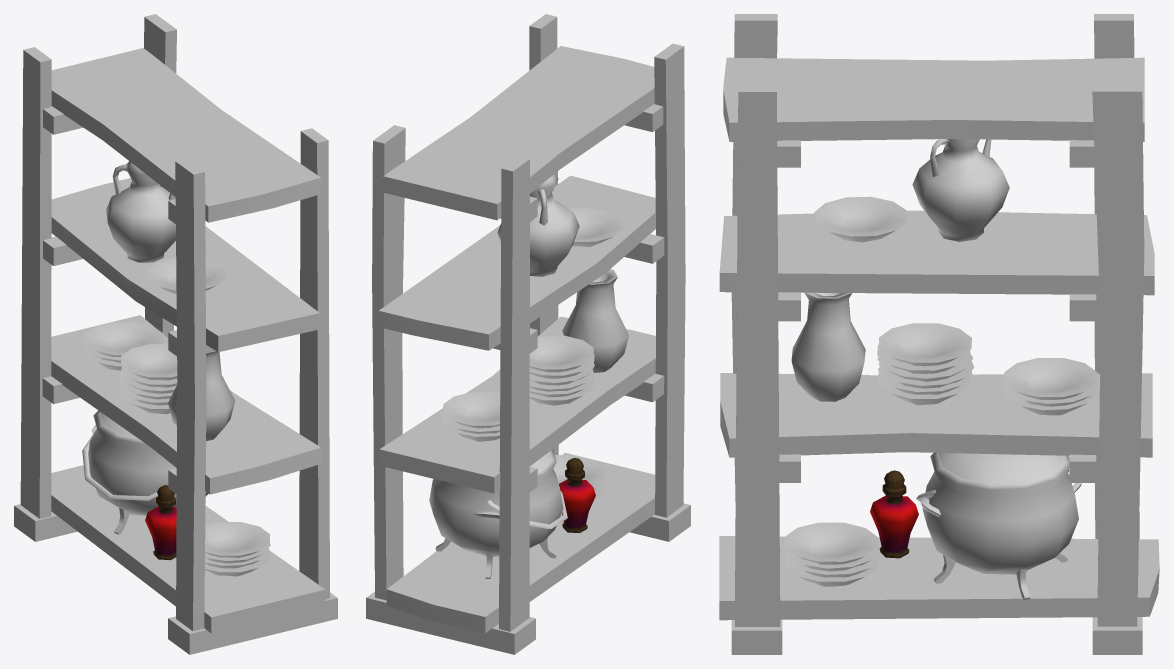
Rendered from Cupboard_03.fbx.
3 views of the same model, side by side, from view 1: azimuth 30°, elevation 25°; view 2: azimuth 150°, elevation 25°; view 3: azimuth 270°, elevation 25° (orthographic). The views are drawn at different scales.
Parts seen in each view (by area): view 1: Cupboard_03; view 2: Cupboard_03; view 3: Cupboard_03.
Boxes of the visible parts, left/top/right/bottom form: Cupboard_03: left=14, top=14, right=337, bottom=654; Cupboard_03: left=366, top=14, right=690, bottom=654; Cupboard_03: left=719, top=14, right=1159, bottom=654.
Size of the model in its own units: 0.8272 by 2.55 by 1.82.
